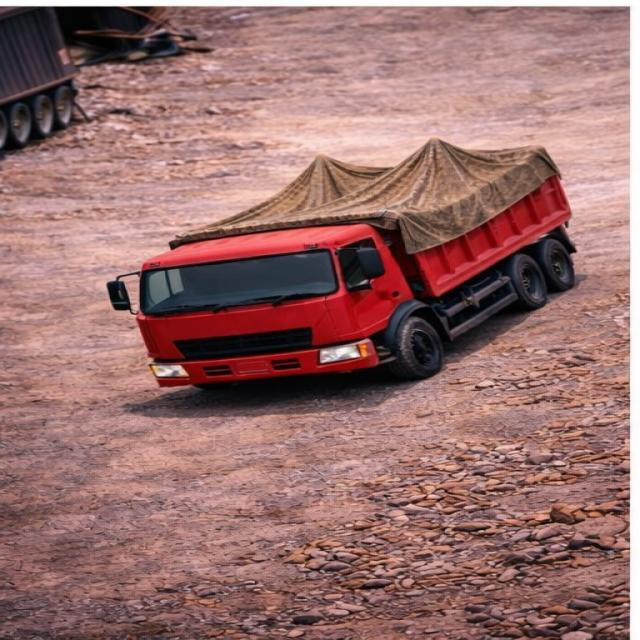trailer: (153, 141, 546, 241)
truck: (104, 126, 600, 395)
